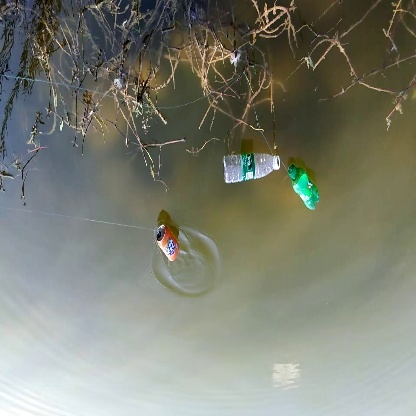bottle: (218, 147, 283, 183), (153, 224, 185, 264)
